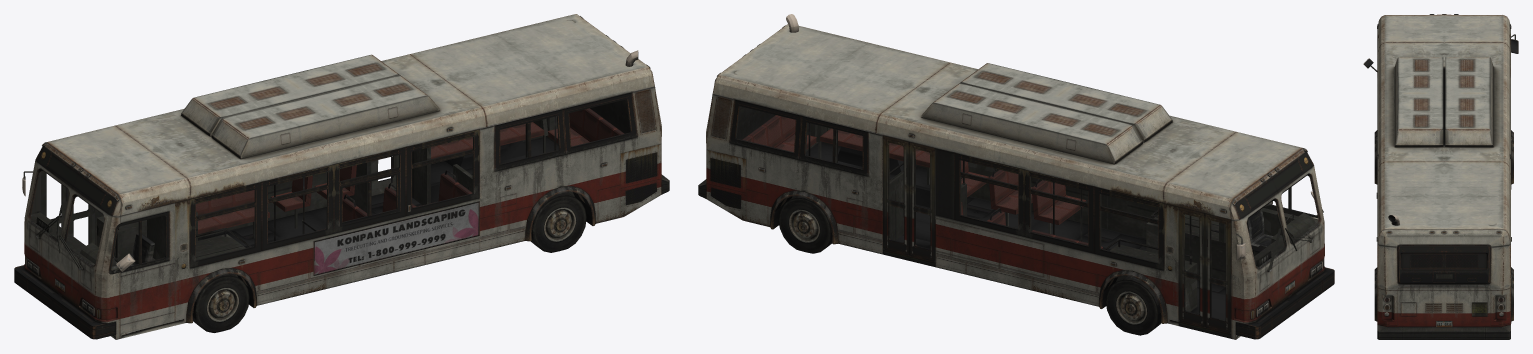
File: abandoned_bus.glb
3 views of the same model, side by side, from view 1: azimuth 30°, elevation 25°; view 2: azimuth 150°, elevation 25°; view 3: azimuth 270°, elevation 25° (orthographic). The views are drawn at different scales.
Visible parts, largest first — view 1: Object_5; view 2: Object_5; view 3: Object_5.
Part boxes in pixels (x1,y1,x2,y2): Object_5: (14,14,669,339); Object_5: (698,14,1334,339); Object_5: (1363,14,1518,339).
Bounding box in the file's own units: 2.5 × 0.731 × 0.705.
1 material, 1 textured.
